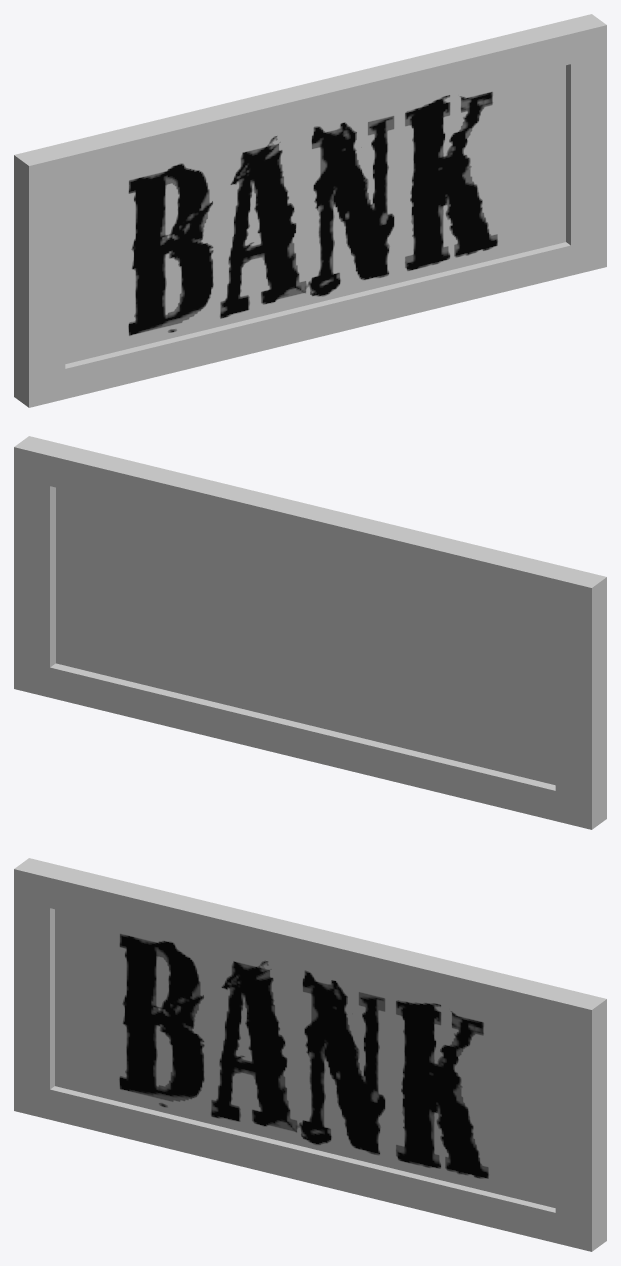
File: SignBoard_4.fbx
3 views of the same model, one above another, from view 1: azimuth 30°, elevation 25°; view 2: azimuth 150°, elevation 25°; view 3: azimuth 330°, elevation 25° (orthographic).
Parts seen in each view (by area): view 1: SignBoard_4; view 2: SignBoard_4; view 3: SignBoard_4.
Boxes of the visible parts, <box> form: SignBoard_4: <box>14,14,606,407</box>; SignBoard_4: <box>14,436,606,829</box>; SignBoard_4: <box>14,858,606,1251</box>.
Bounding box in the file's own units: 2 × 0.8315 × 0.0909.
